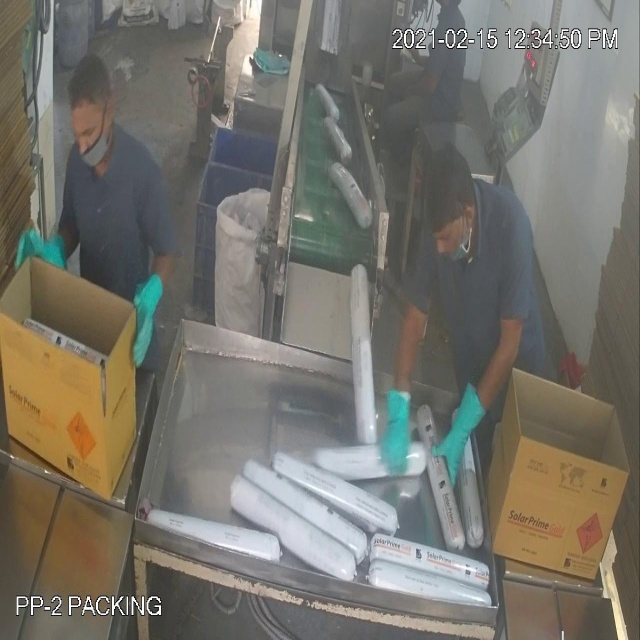Guantes: (434, 359, 489, 490), (374, 367, 418, 492), (123, 257, 168, 372), (11, 215, 80, 284)
Sin_guantes: (389, 73, 440, 112)
